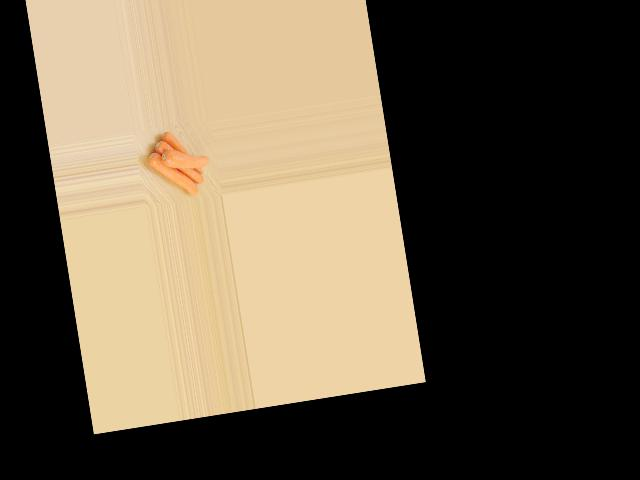carrot: (157, 123, 198, 168)
